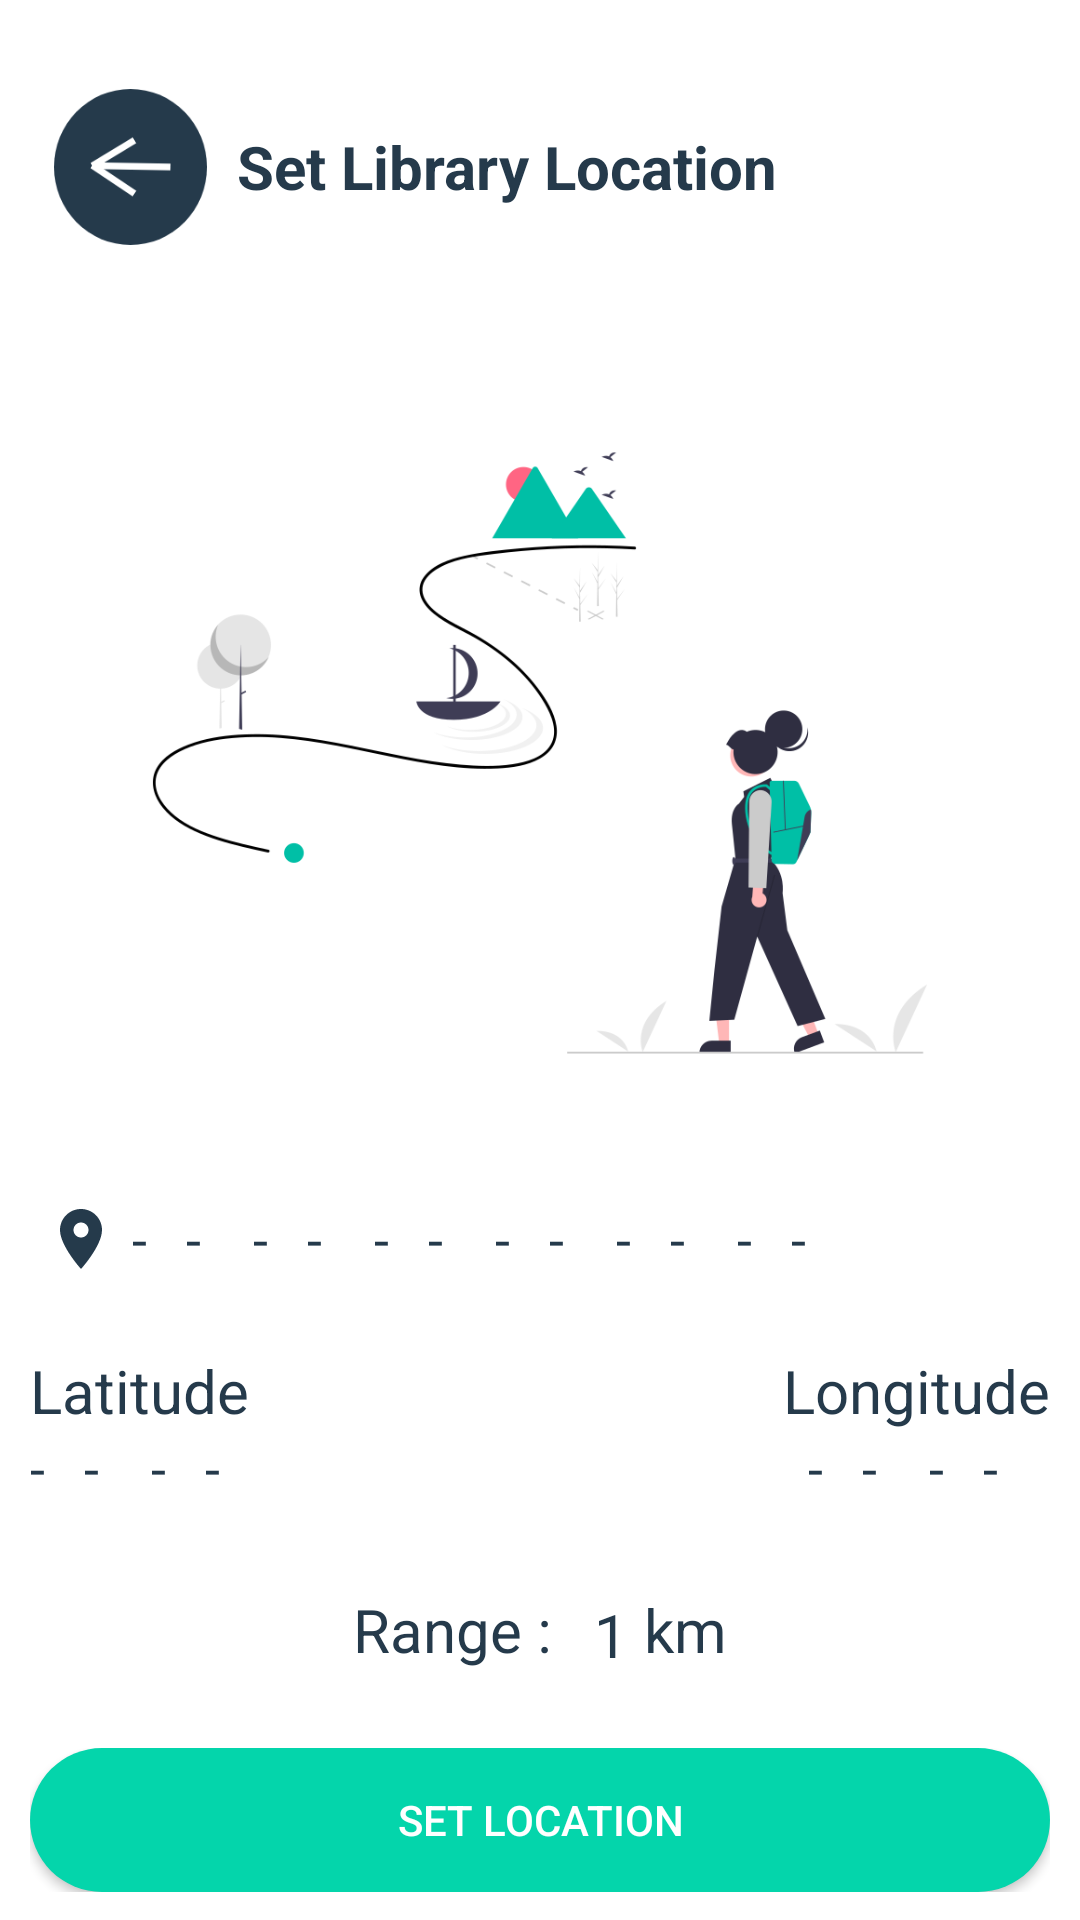

Named icons in this screenshot (1080 × 1920) and their bounding boxes, (x1, y1, x2, y2):
back: (54, 89, 207, 245)
